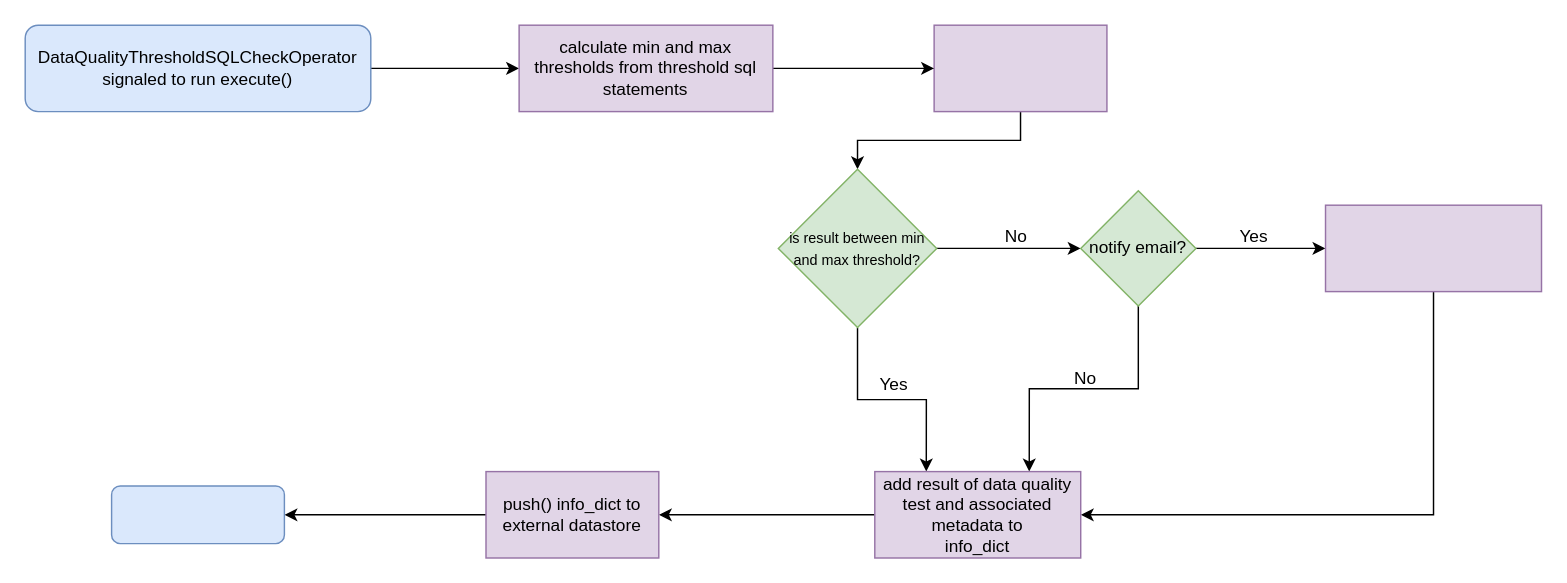
Image size: 1567x583. Some labels were removed from this diagram. Here are the shapes that lost their labels. From the top down, the centre of each, then its label:
the point at 1020,68: Data quality result calculated using get_sql_value()
the point at 1433,248: send_email_notification()
the point at 197,514: return info_dict
